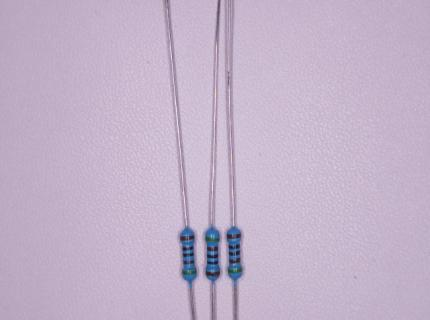Black band: (182, 246, 194, 252), (229, 250, 240, 256), (228, 244, 240, 249), (183, 253, 194, 258), (207, 254, 219, 258), (207, 261, 218, 265)
Brown band: (180, 235, 195, 241), (227, 234, 242, 239), (205, 271, 220, 276), (229, 258, 241, 264), (183, 260, 195, 265), (207, 247, 219, 251)
Green band: (228, 268, 243, 274), (181, 270, 197, 275), (205, 237, 220, 242)
